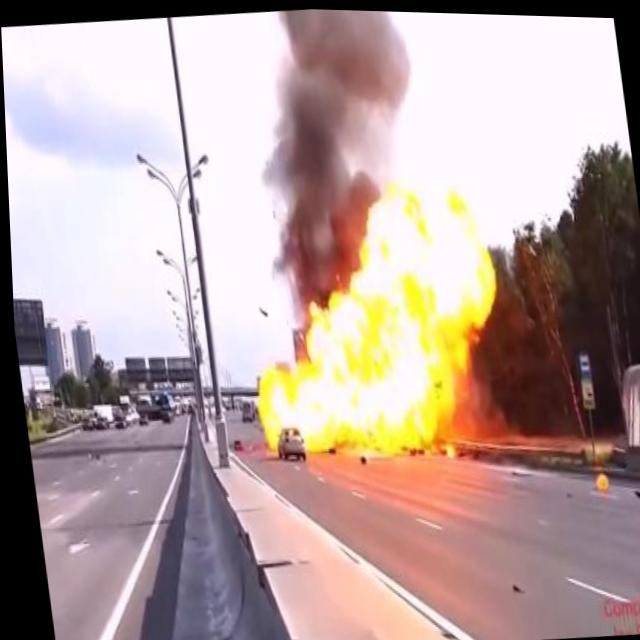fire: (221, 167, 530, 476), (589, 464, 607, 491)
